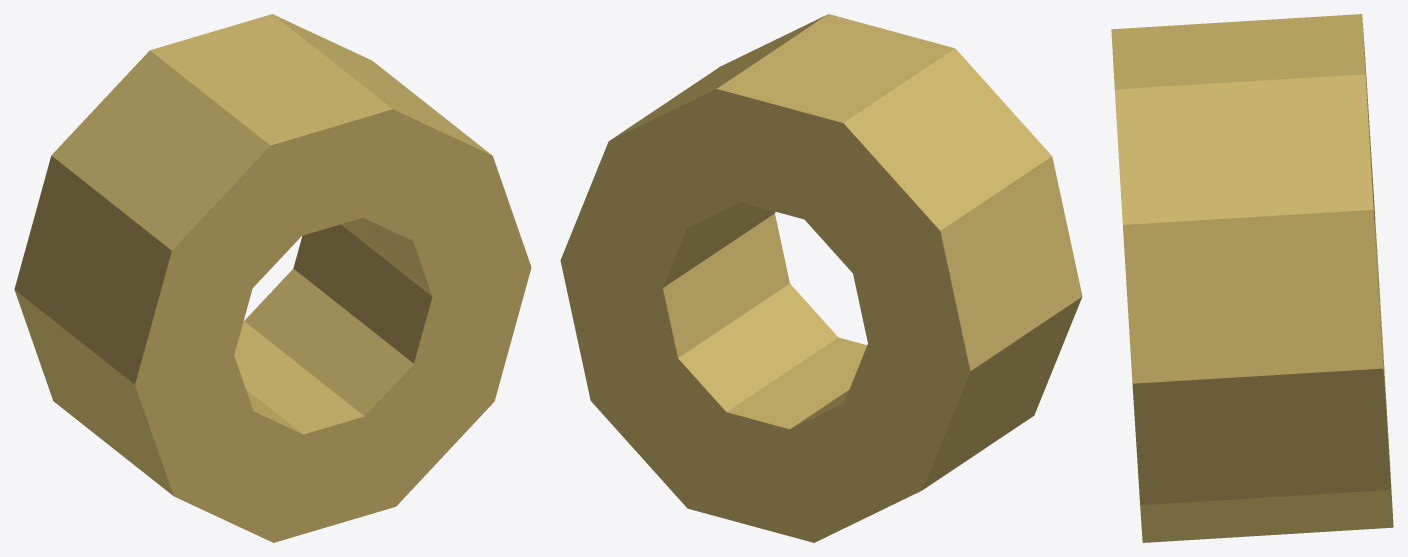
Rendered from wheel1.glb.
The picture shows the model from 3 angles, left to right: view 1: azimuth 30°, elevation 25°; view 2: azimuth 150°, elevation 25°; view 3: azimuth 270°, elevation 25°; orthographic projection. The views are drawn at different scales.
Visible parts, largest first — view 1: Mesh_Mesh_head_geo.001_lambert2SG.001; view 2: Mesh_Mesh_head_geo.001_lambert2SG.001; view 3: Mesh_Mesh_head_geo.001_lambert2SG.001.
Part boxes in pixels (bbox=[...]): Mesh_Mesh_head_geo.001_lambert2SG.001: bbox=[14, 14, 531, 542]; Mesh_Mesh_head_geo.001_lambert2SG.001: bbox=[560, 14, 1082, 542]; Mesh_Mesh_head_geo.001_lambert2SG.001: bbox=[1111, 14, 1393, 542].
Size of the model in its own units: 0.00404 by 0.00406 by 0.00225.
